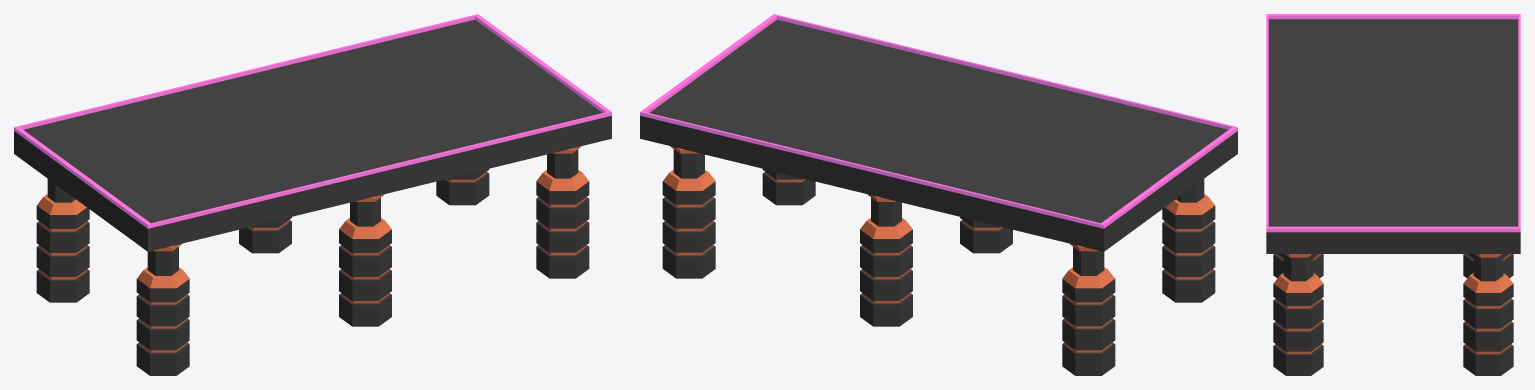
Rendered from 2x1_Foundation.fbx.
The picture shows the model from 3 angles, left to right: view 1: azimuth 30°, elevation 25°; view 2: azimuth 150°, elevation 25°; view 3: azimuth 270°, elevation 25°; orthographic projection. The views are drawn at different scales.
Visible parts, largest first — view 1: 2x1 Foundation; view 2: 2x1 Foundation; view 3: 2x1 Foundation.
Boxes of the visible parts, x1=… form: 2x1 Foundation: x1=14, y1=14, x2=611, y2=375; 2x1 Foundation: x1=640, y1=14, x2=1237, y2=375; 2x1 Foundation: x1=1266, y1=14, x2=1520, y2=375.
Bounding box in the file's own units: 40000 × 13289 × 20000.
